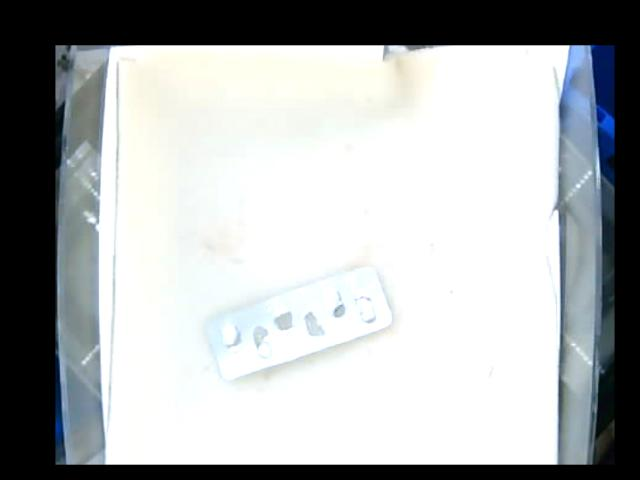Medicine: (207, 267, 391, 380)
